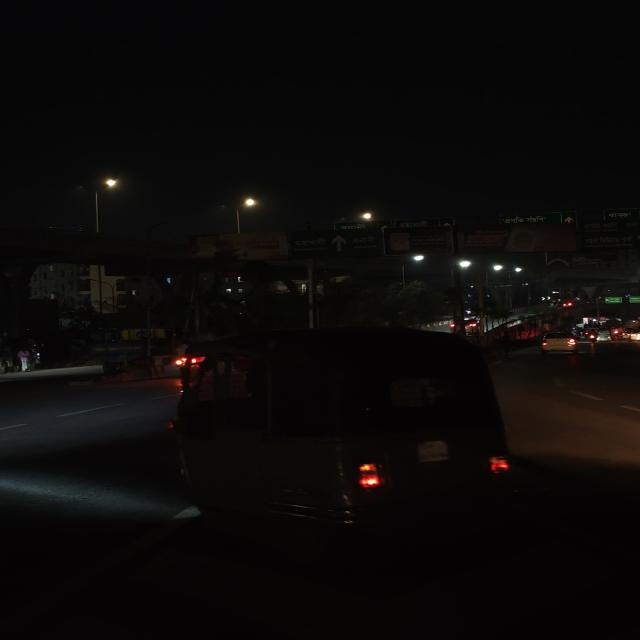car: (536, 330, 584, 358), (620, 327, 640, 343)
cng: (160, 323, 518, 541), (593, 327, 613, 342)
